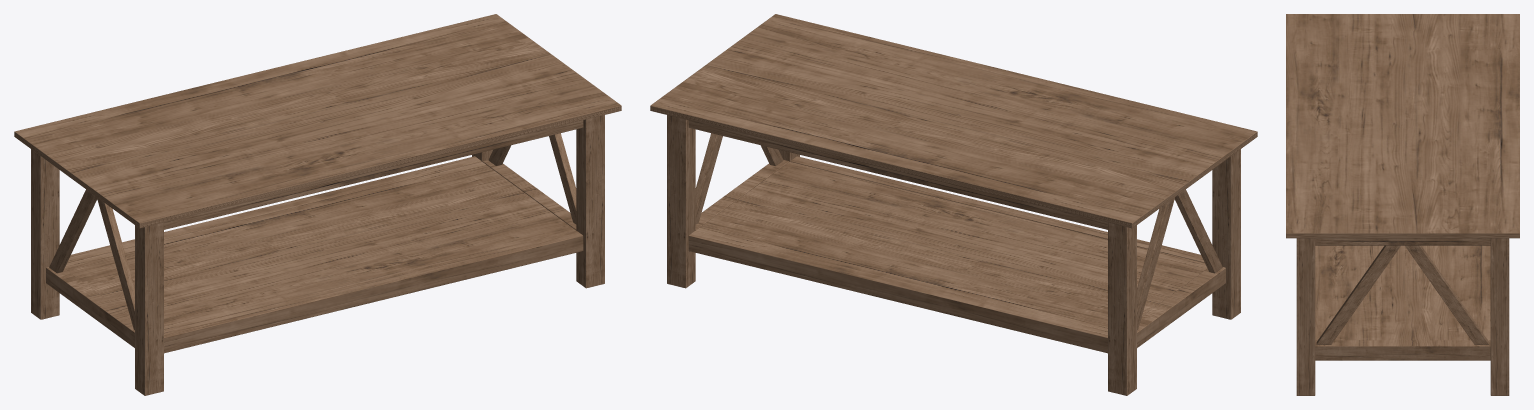
Rendered from coffe table.fbx.
The picture shows the model from 3 angles, left to right: view 1: azimuth 30°, elevation 25°; view 2: azimuth 150°, elevation 25°; view 3: azimuth 270°, elevation 25°; orthographic projection. The views are drawn at different scales.
Parts seen in each view (by area): view 1: Component_1_1; view 2: Component_1_1; view 3: Component_1_1.
Part boxes in pixels (x1,y1,x2,y2): Component_1_1: [14, 14, 621, 395]; Component_1_1: [650, 14, 1257, 395]; Component_1_1: [1286, 14, 1519, 395].
Size of the model in its own units: 1.51 by 0.5392 by 0.6817.
